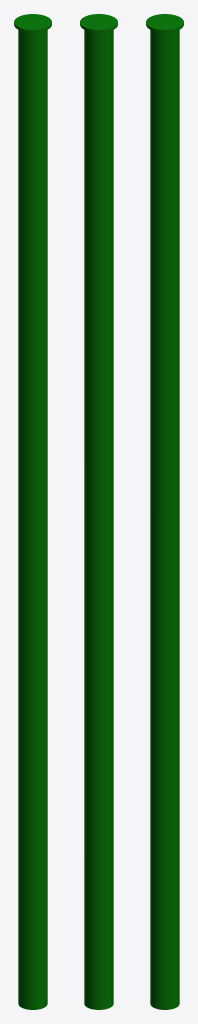
Rendered from Image-1710907555388-2281448119840_C2.fbx.
The picture shows the model from 3 angles, left to right: view 1: azimuth 90°, elevation 25°; view 2: azimuth 210°, elevation 25°; view 3: azimuth 270°, elevation 25°; orthographic projection.
Parts seen in each view (by area): view 1: CYLINDER 1 of SUBEQUIPMENT /C2/PRIM, /C2/N1; view 2: CYLINDER 1 of SUBEQUIPMENT /C2/PRIM, /C2/N1; view 3: CYLINDER 1 of SUBEQUIPMENT /C2/PRIM, /C2/N1.
Boxes of the visible parts, bbox=[...] form: CYLINDER 1 of SUBEQUIPMENT /C2/PRIM: bbox=[18, 16, 47, 1009]; /C2/N1: bbox=[14, 14, 51, 38]; CYLINDER 1 of SUBEQUIPMENT /C2/PRIM: bbox=[84, 16, 113, 1009]; /C2/N1: bbox=[80, 14, 117, 38]; CYLINDER 1 of SUBEQUIPMENT /C2/PRIM: bbox=[150, 16, 179, 1009]; /C2/N1: bbox=[146, 14, 183, 38].
Bounding box in the file's own units: 0.9839 × 0.9839 × 28.1.
